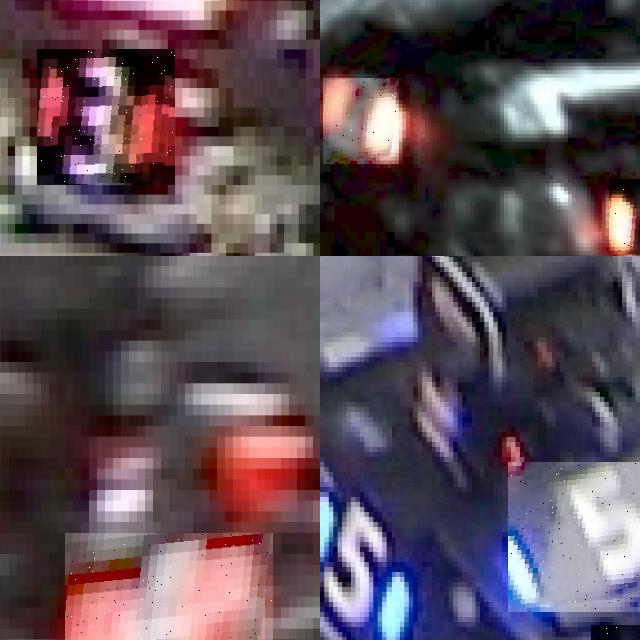B5: (508, 462, 640, 612), (320, 472, 424, 640)
R3: (37, 49, 175, 185)
R4: (65, 532, 273, 640)
Rs: (323, 78, 399, 164), (609, 179, 640, 254)
